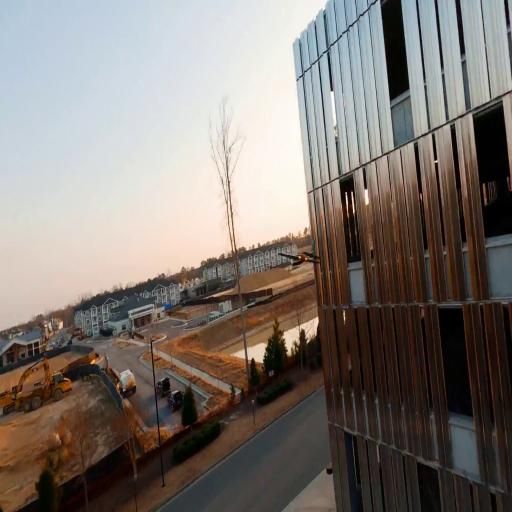uav: (277, 236, 323, 270)
